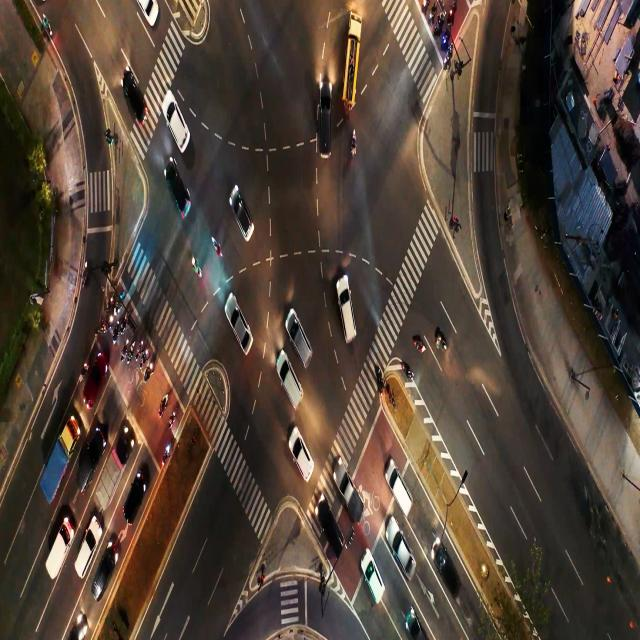bus: (344, 19, 358, 107)
car: (40, 4, 52, 52), (432, 325, 446, 355), (415, 327, 425, 360), (208, 233, 222, 254), (347, 134, 360, 155), (162, 443, 172, 467), (192, 252, 200, 280), (159, 388, 166, 420), (120, 334, 128, 362), (144, 363, 154, 385), (139, 346, 148, 369), (104, 293, 113, 315), (168, 410, 177, 431), (134, 344, 142, 362), (401, 362, 410, 378), (120, 312, 126, 335), (114, 322, 120, 343), (116, 294, 121, 318), (433, 18, 440, 34), (101, 319, 111, 330), (446, 5, 456, 15), (421, 0, 427, 14), (427, 8, 432, 23), (445, 50, 450, 64), (128, 347, 132, 363), (444, 32, 447, 46)
other: (42, 418, 68, 505), (52, 522, 68, 576), (107, 448, 119, 498)
truck: (224, 296, 253, 358), (315, 91, 336, 158), (94, 539, 112, 609), (229, 189, 254, 232), (129, 464, 145, 529), (75, 526, 93, 579), (165, 163, 185, 209), (165, 98, 187, 139), (122, 82, 146, 117), (339, 472, 359, 513), (292, 308, 307, 362), (279, 356, 298, 398), (84, 355, 100, 404), (320, 503, 336, 547), (341, 282, 354, 336), (294, 437, 310, 478), (393, 530, 409, 569), (435, 550, 452, 586), (392, 476, 411, 506), (362, 557, 378, 589), (78, 451, 91, 486)
